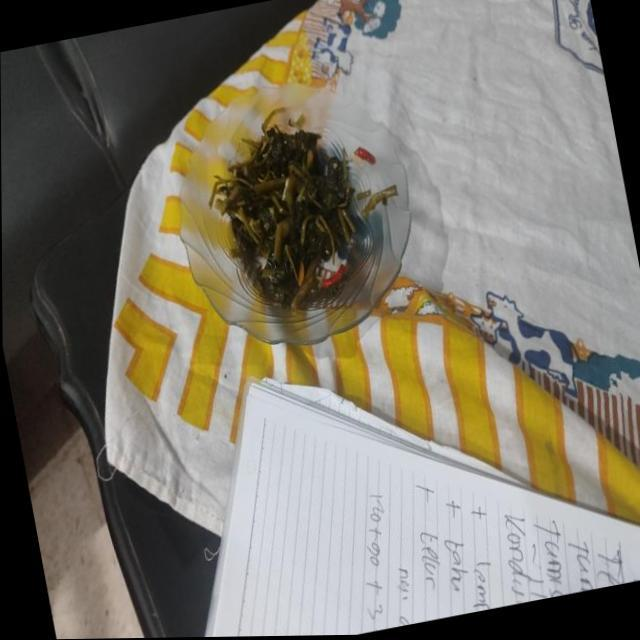tumis_kangkung: (218, 121, 361, 312)
